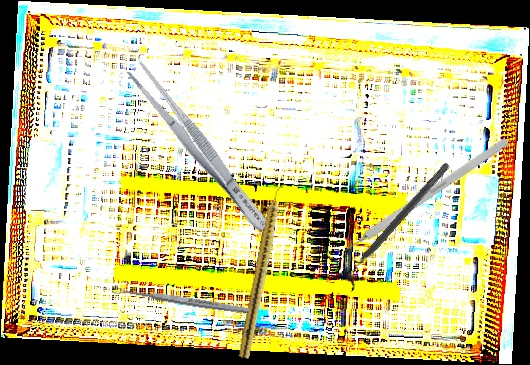Dressing Forceps: (123, 58, 276, 238)
Fixation Ring: (333, 156, 458, 293)
Handpiece: (238, 181, 287, 360)
Hook Surgical: (331, 137, 510, 262)
Surgical Spoon: (111, 284, 250, 316)
